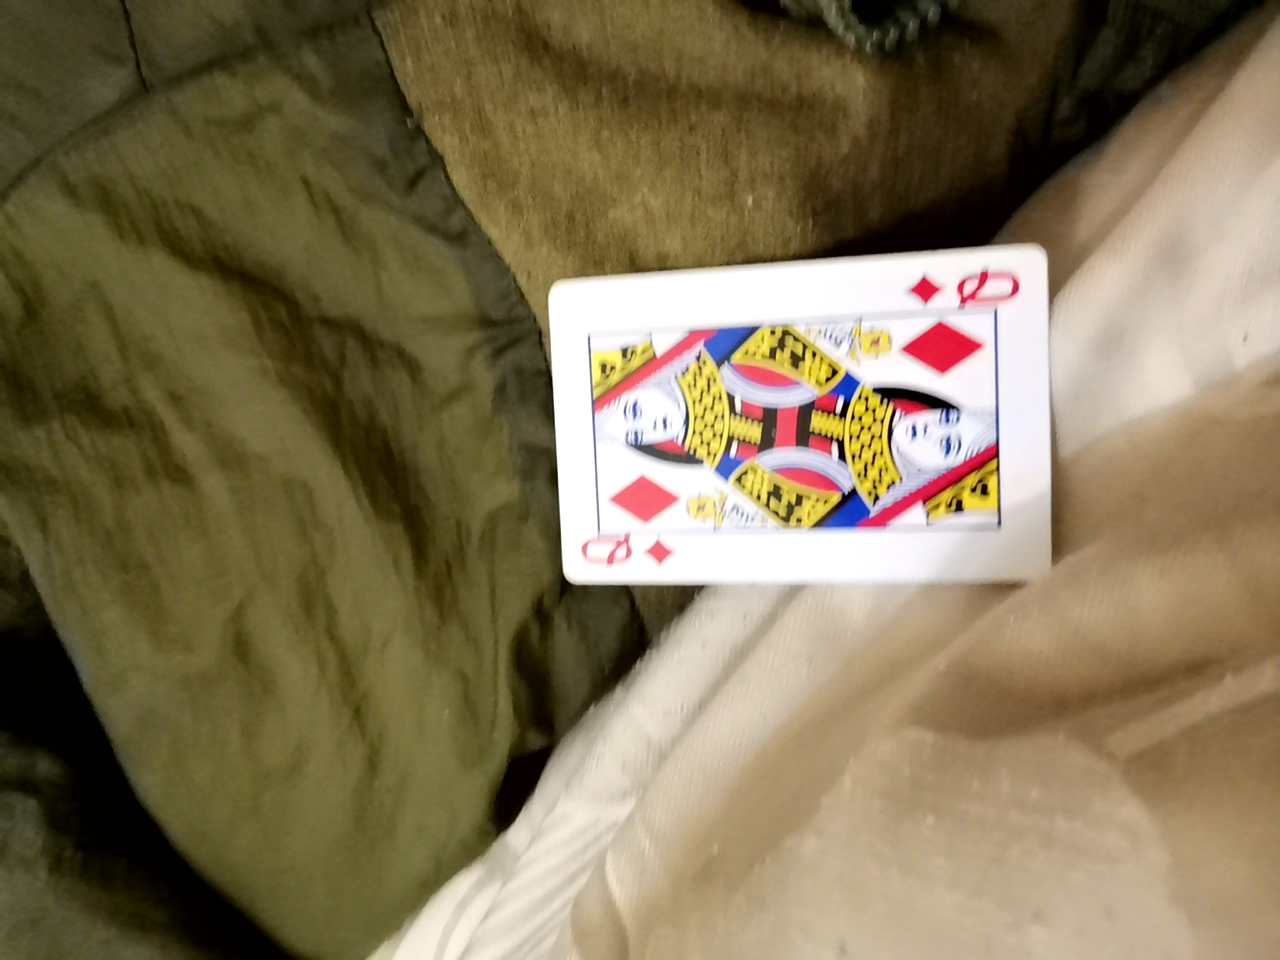fk q: (541, 277, 1055, 611)
